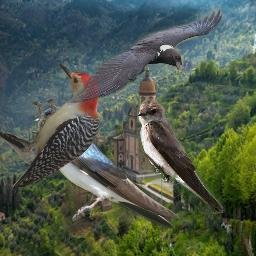Crow: (67, 8, 223, 105)
Swallow: (33, 106, 182, 229), (137, 98, 225, 214)
Woodpecker: (0, 62, 104, 187)
